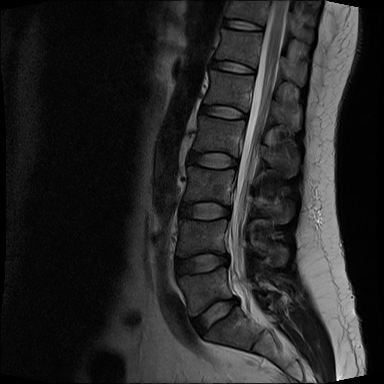Lumbar Disc Bulge (LDB): (184, 283, 246, 343), (171, 247, 233, 280)
Normal IVD: (173, 195, 233, 225), (183, 143, 241, 174), (193, 98, 252, 124), (206, 54, 258, 80), (215, 16, 267, 35)
Spinal Stenosis (SS): (213, 236, 242, 276), (216, 286, 244, 326)
